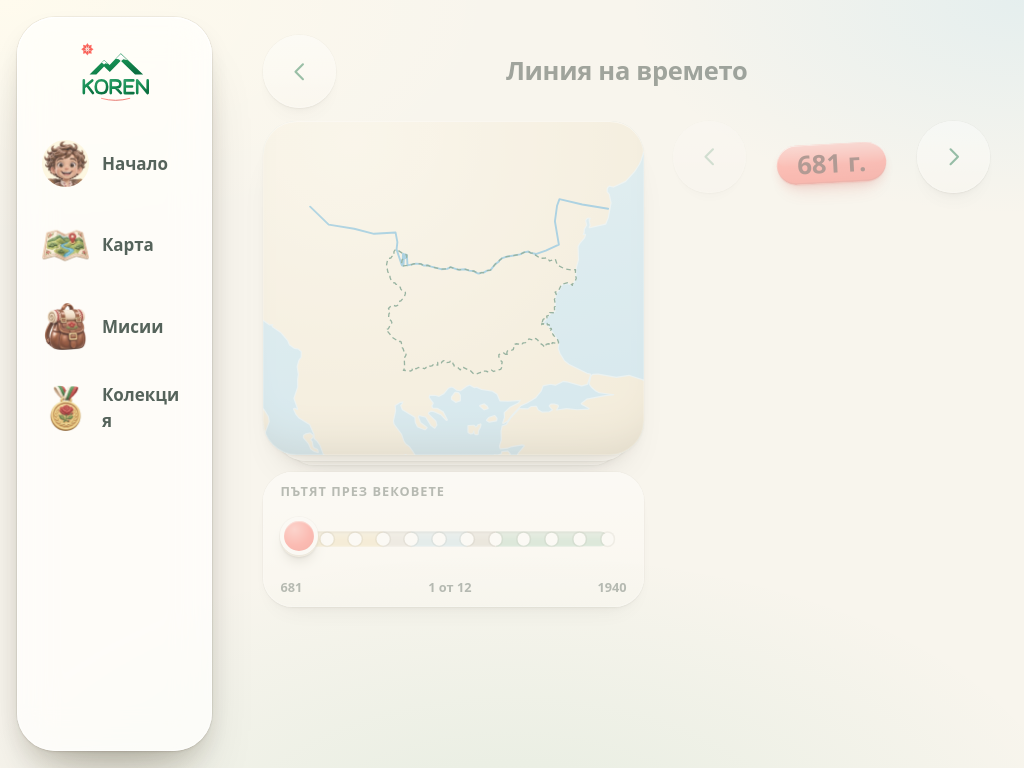
Test case: timeline screen › explains the dotted line only where there is one (1878)
Expected: the text "Неосъществен договор" is not shown
Set the slider named "Година" to "7" at x=498, y=536, box [280,500,626,572]
(page scrolled)
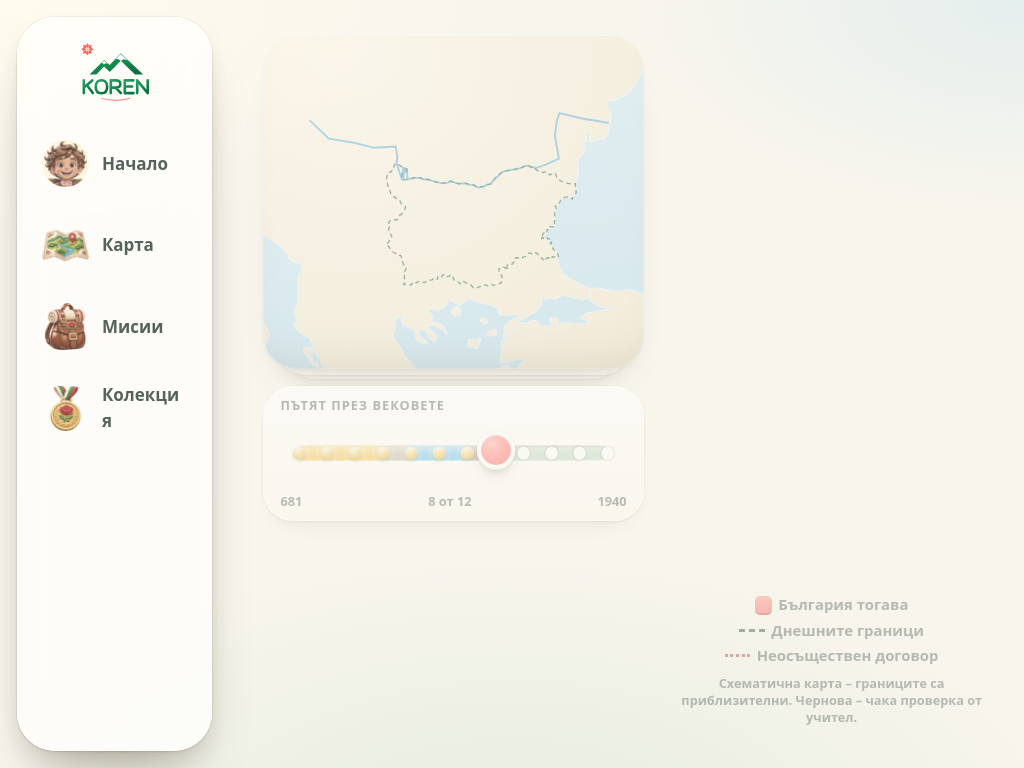
Result: the list item "Неосъществен договор" is shown at [725,645,938,666]
